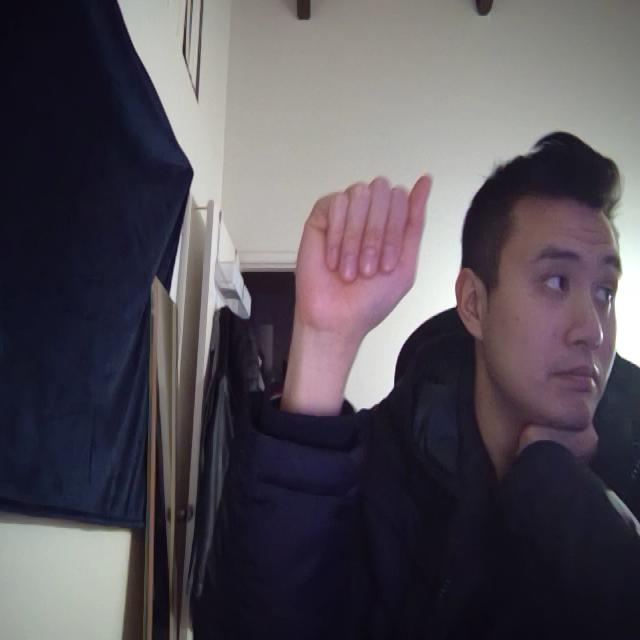A: (287, 149, 443, 364)
